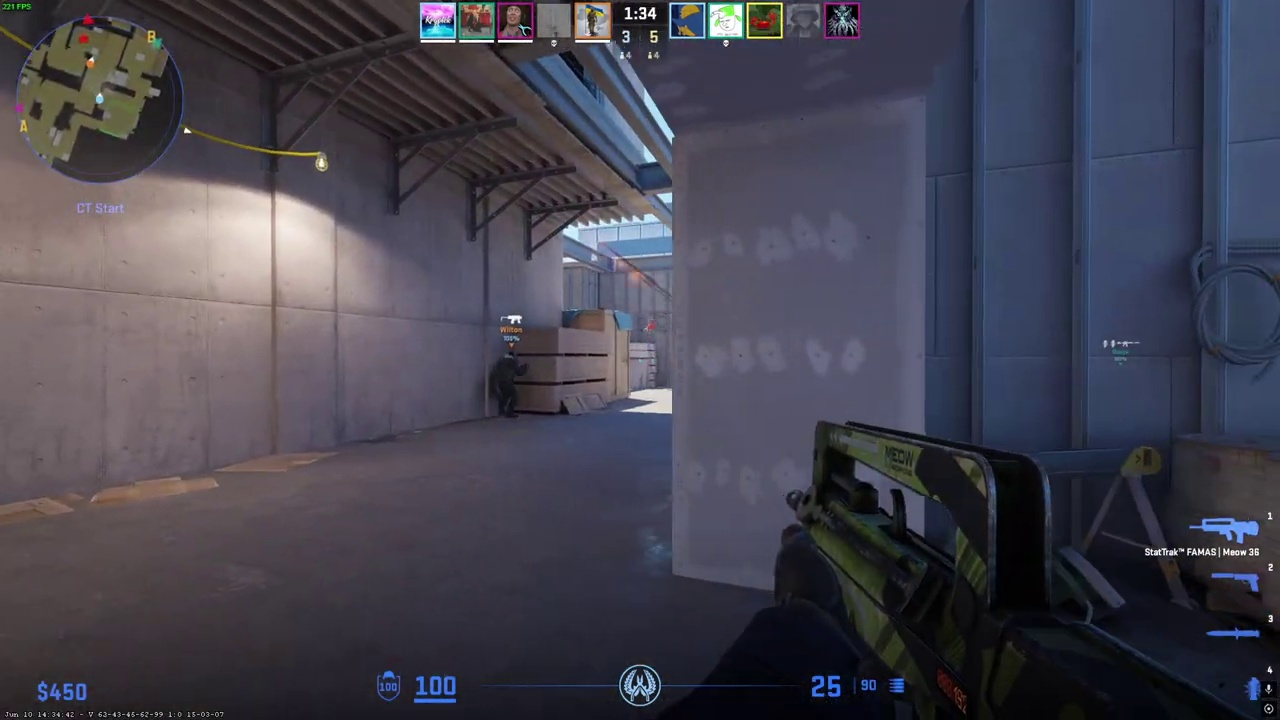CT: (494, 351, 522, 418)
